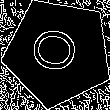O_E: (29, 27, 87, 78)
